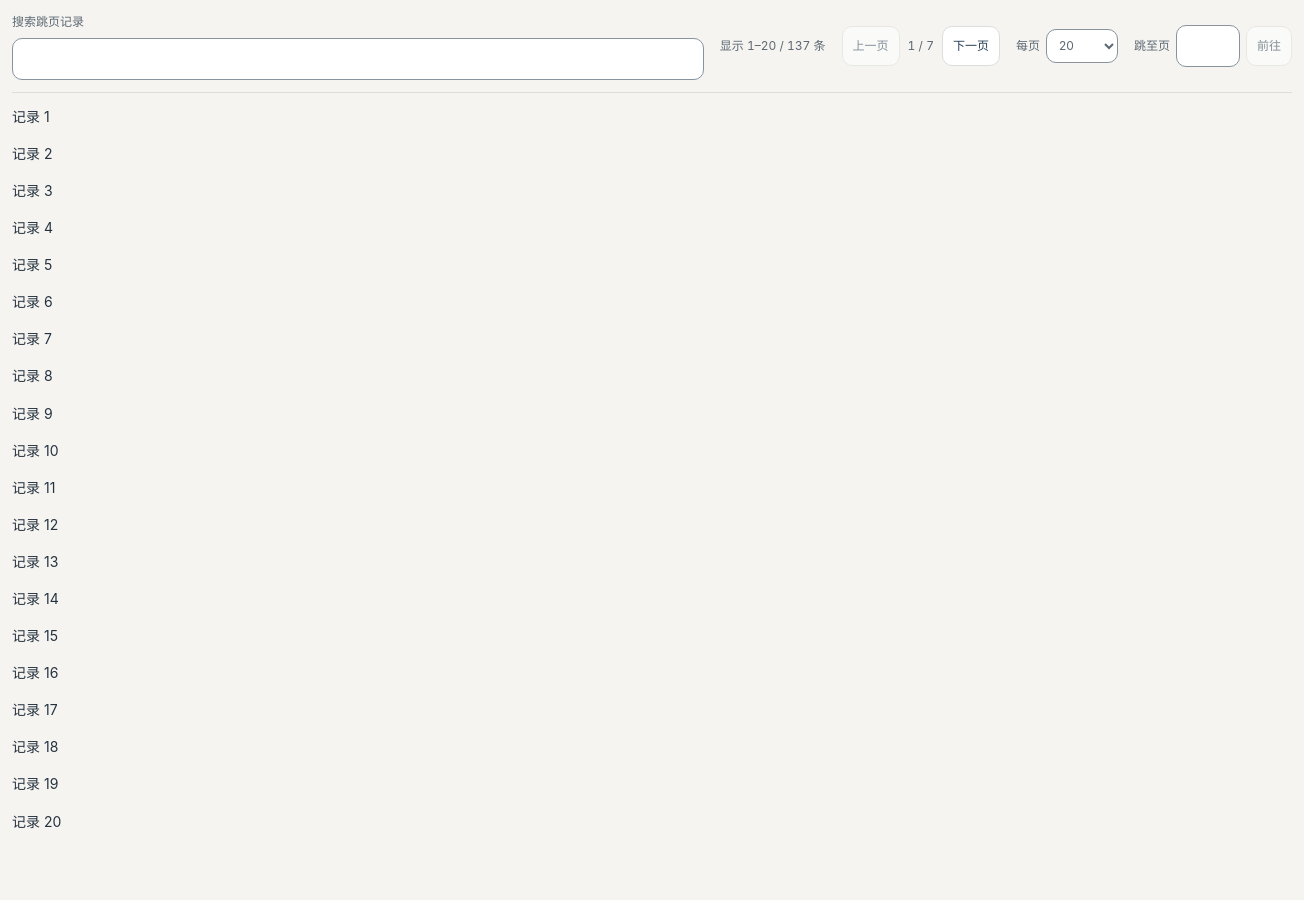
it: bounded collections › reaches the final page and recovers from a zero-match search
Step 1. Type "7" into the number field labelled "跳至页" → (1208, 46), box [1176,25,1240,67]
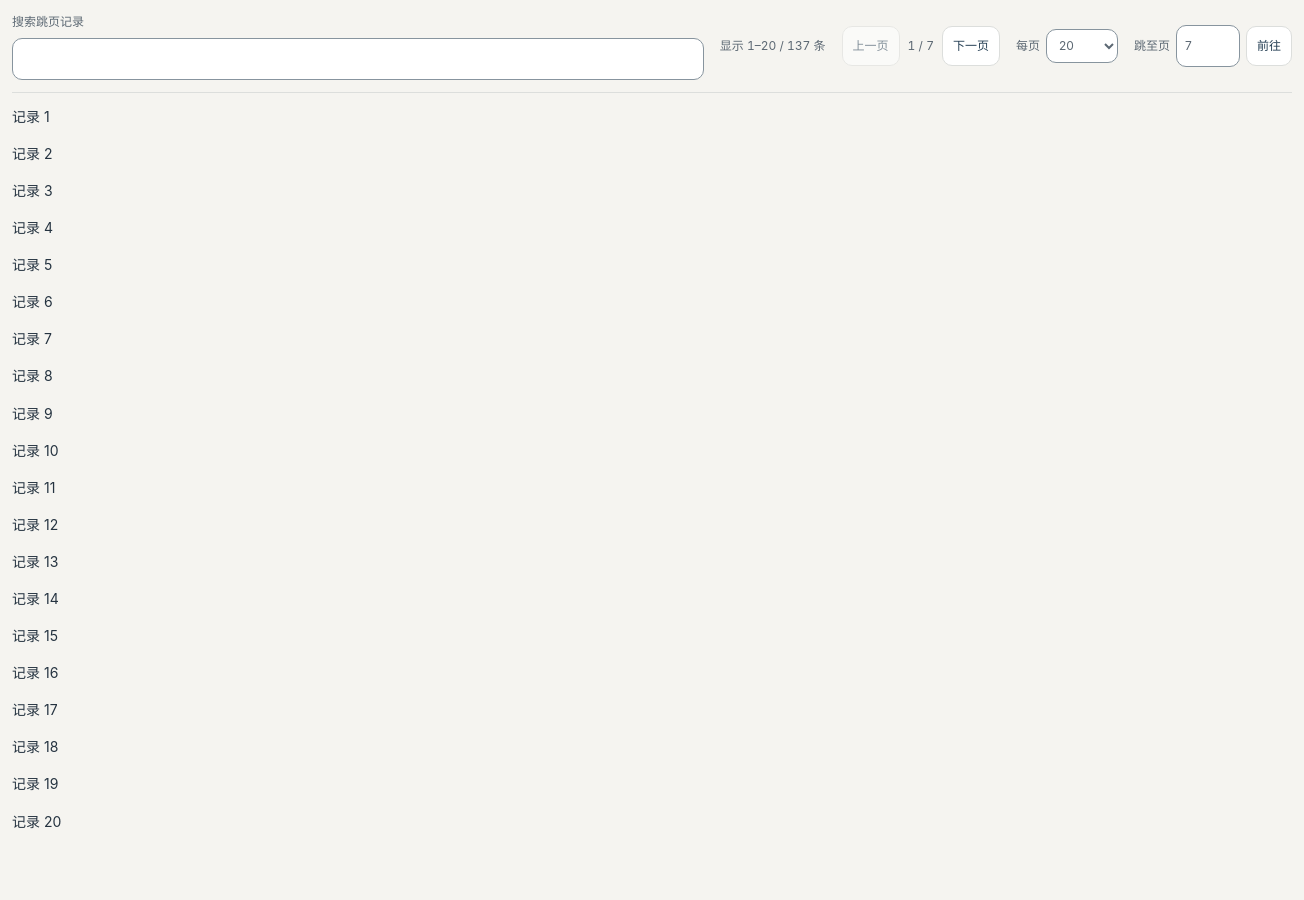
Step 2. Click the button "前往" → (1269, 46), box [1246,26,1292,66]
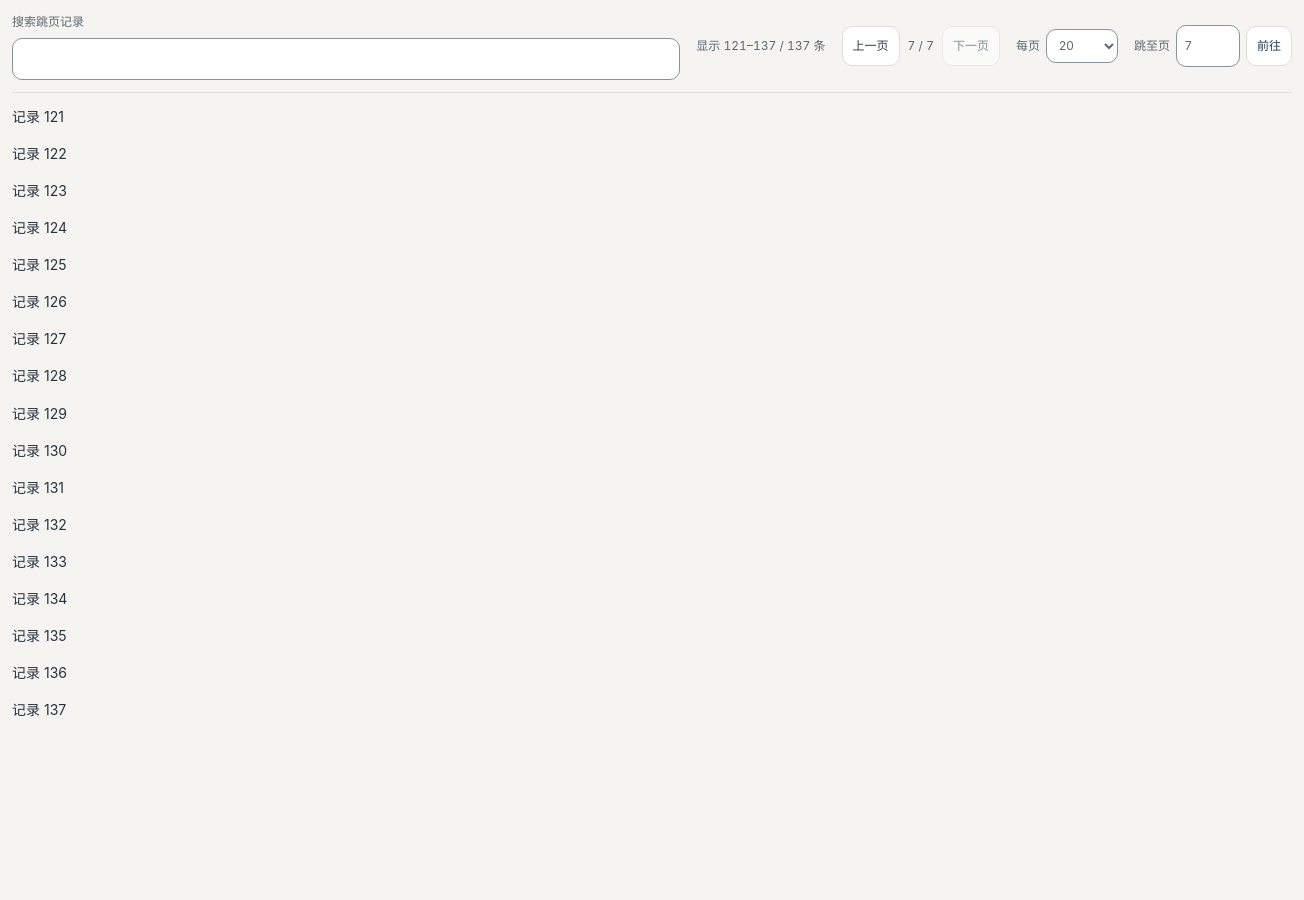
Check: the text "记录 137" is shown, box [12,701,66,718]
Check: the button with aria-label "下一页：跳页记录" is disabled, box [942,26,1000,66]
Step 3. Type "没有匹配" into the search field → (346, 59), box [12,38,680,80]
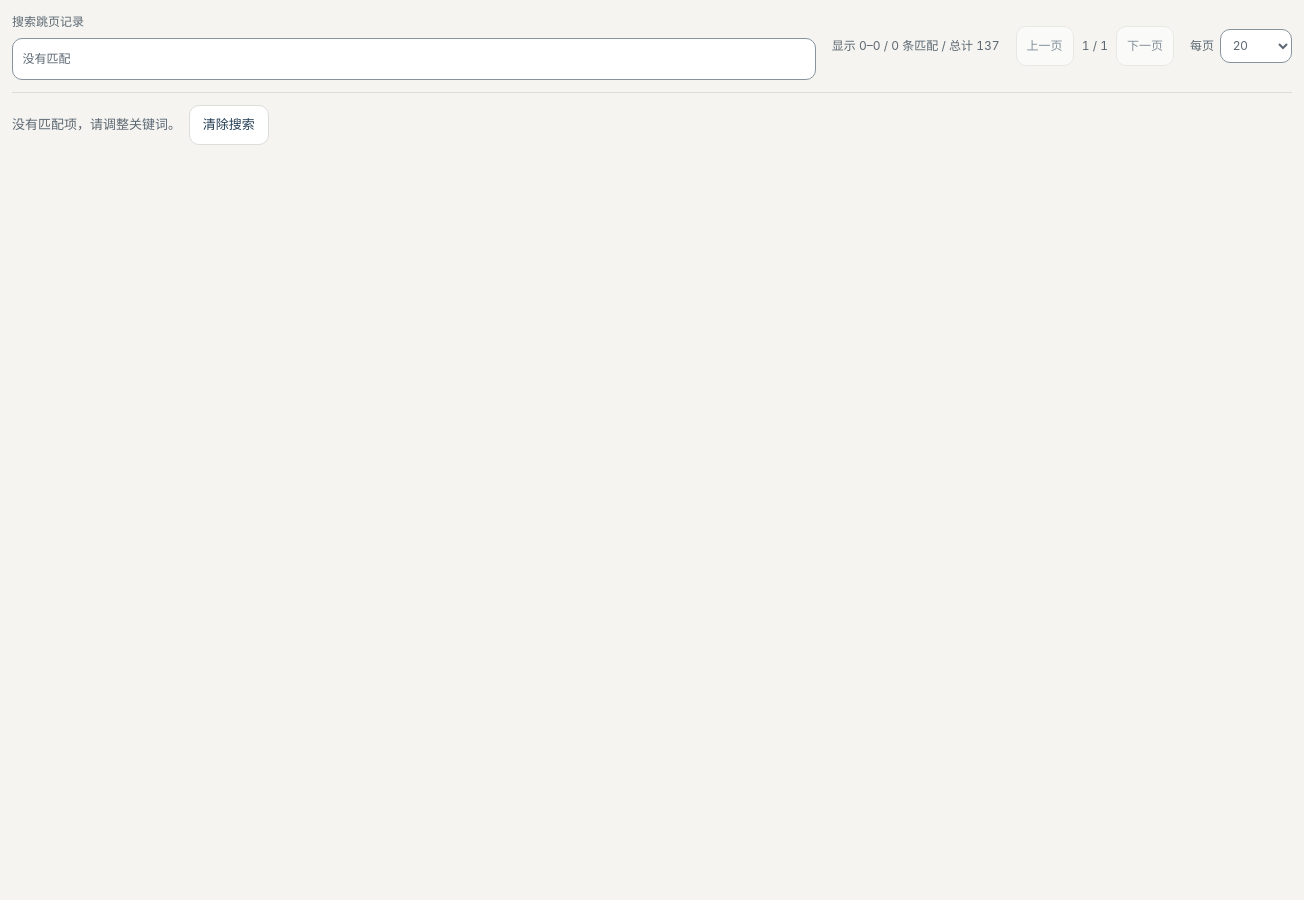
Check: the text "没有匹配项，请调整关键词。" is shown, box [12,116,181,132]
Step 4. Click the button "清除搜索" → (229, 125), box [189,105,269,145]
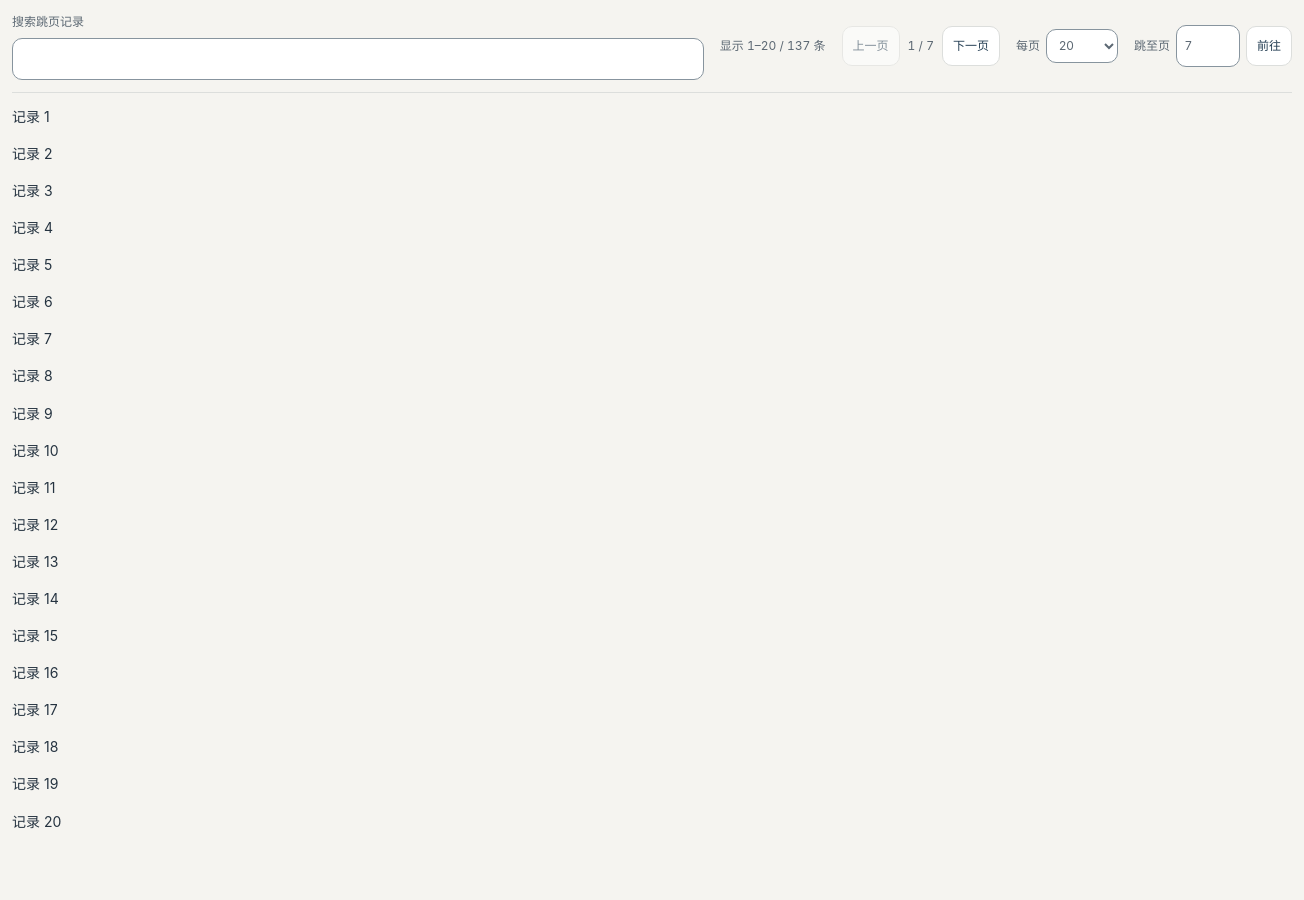
Check: the text "记录 1" is shown, box [12,108,50,125]
